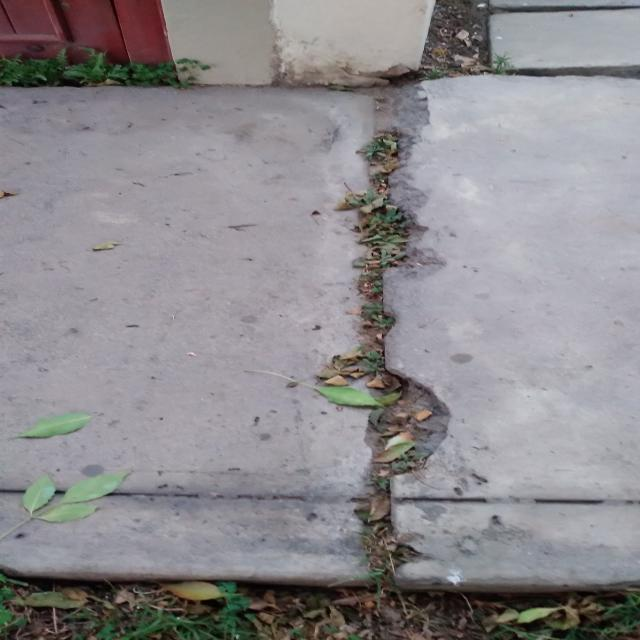hole: (0, 540, 640, 640), (336, 328, 465, 520)
